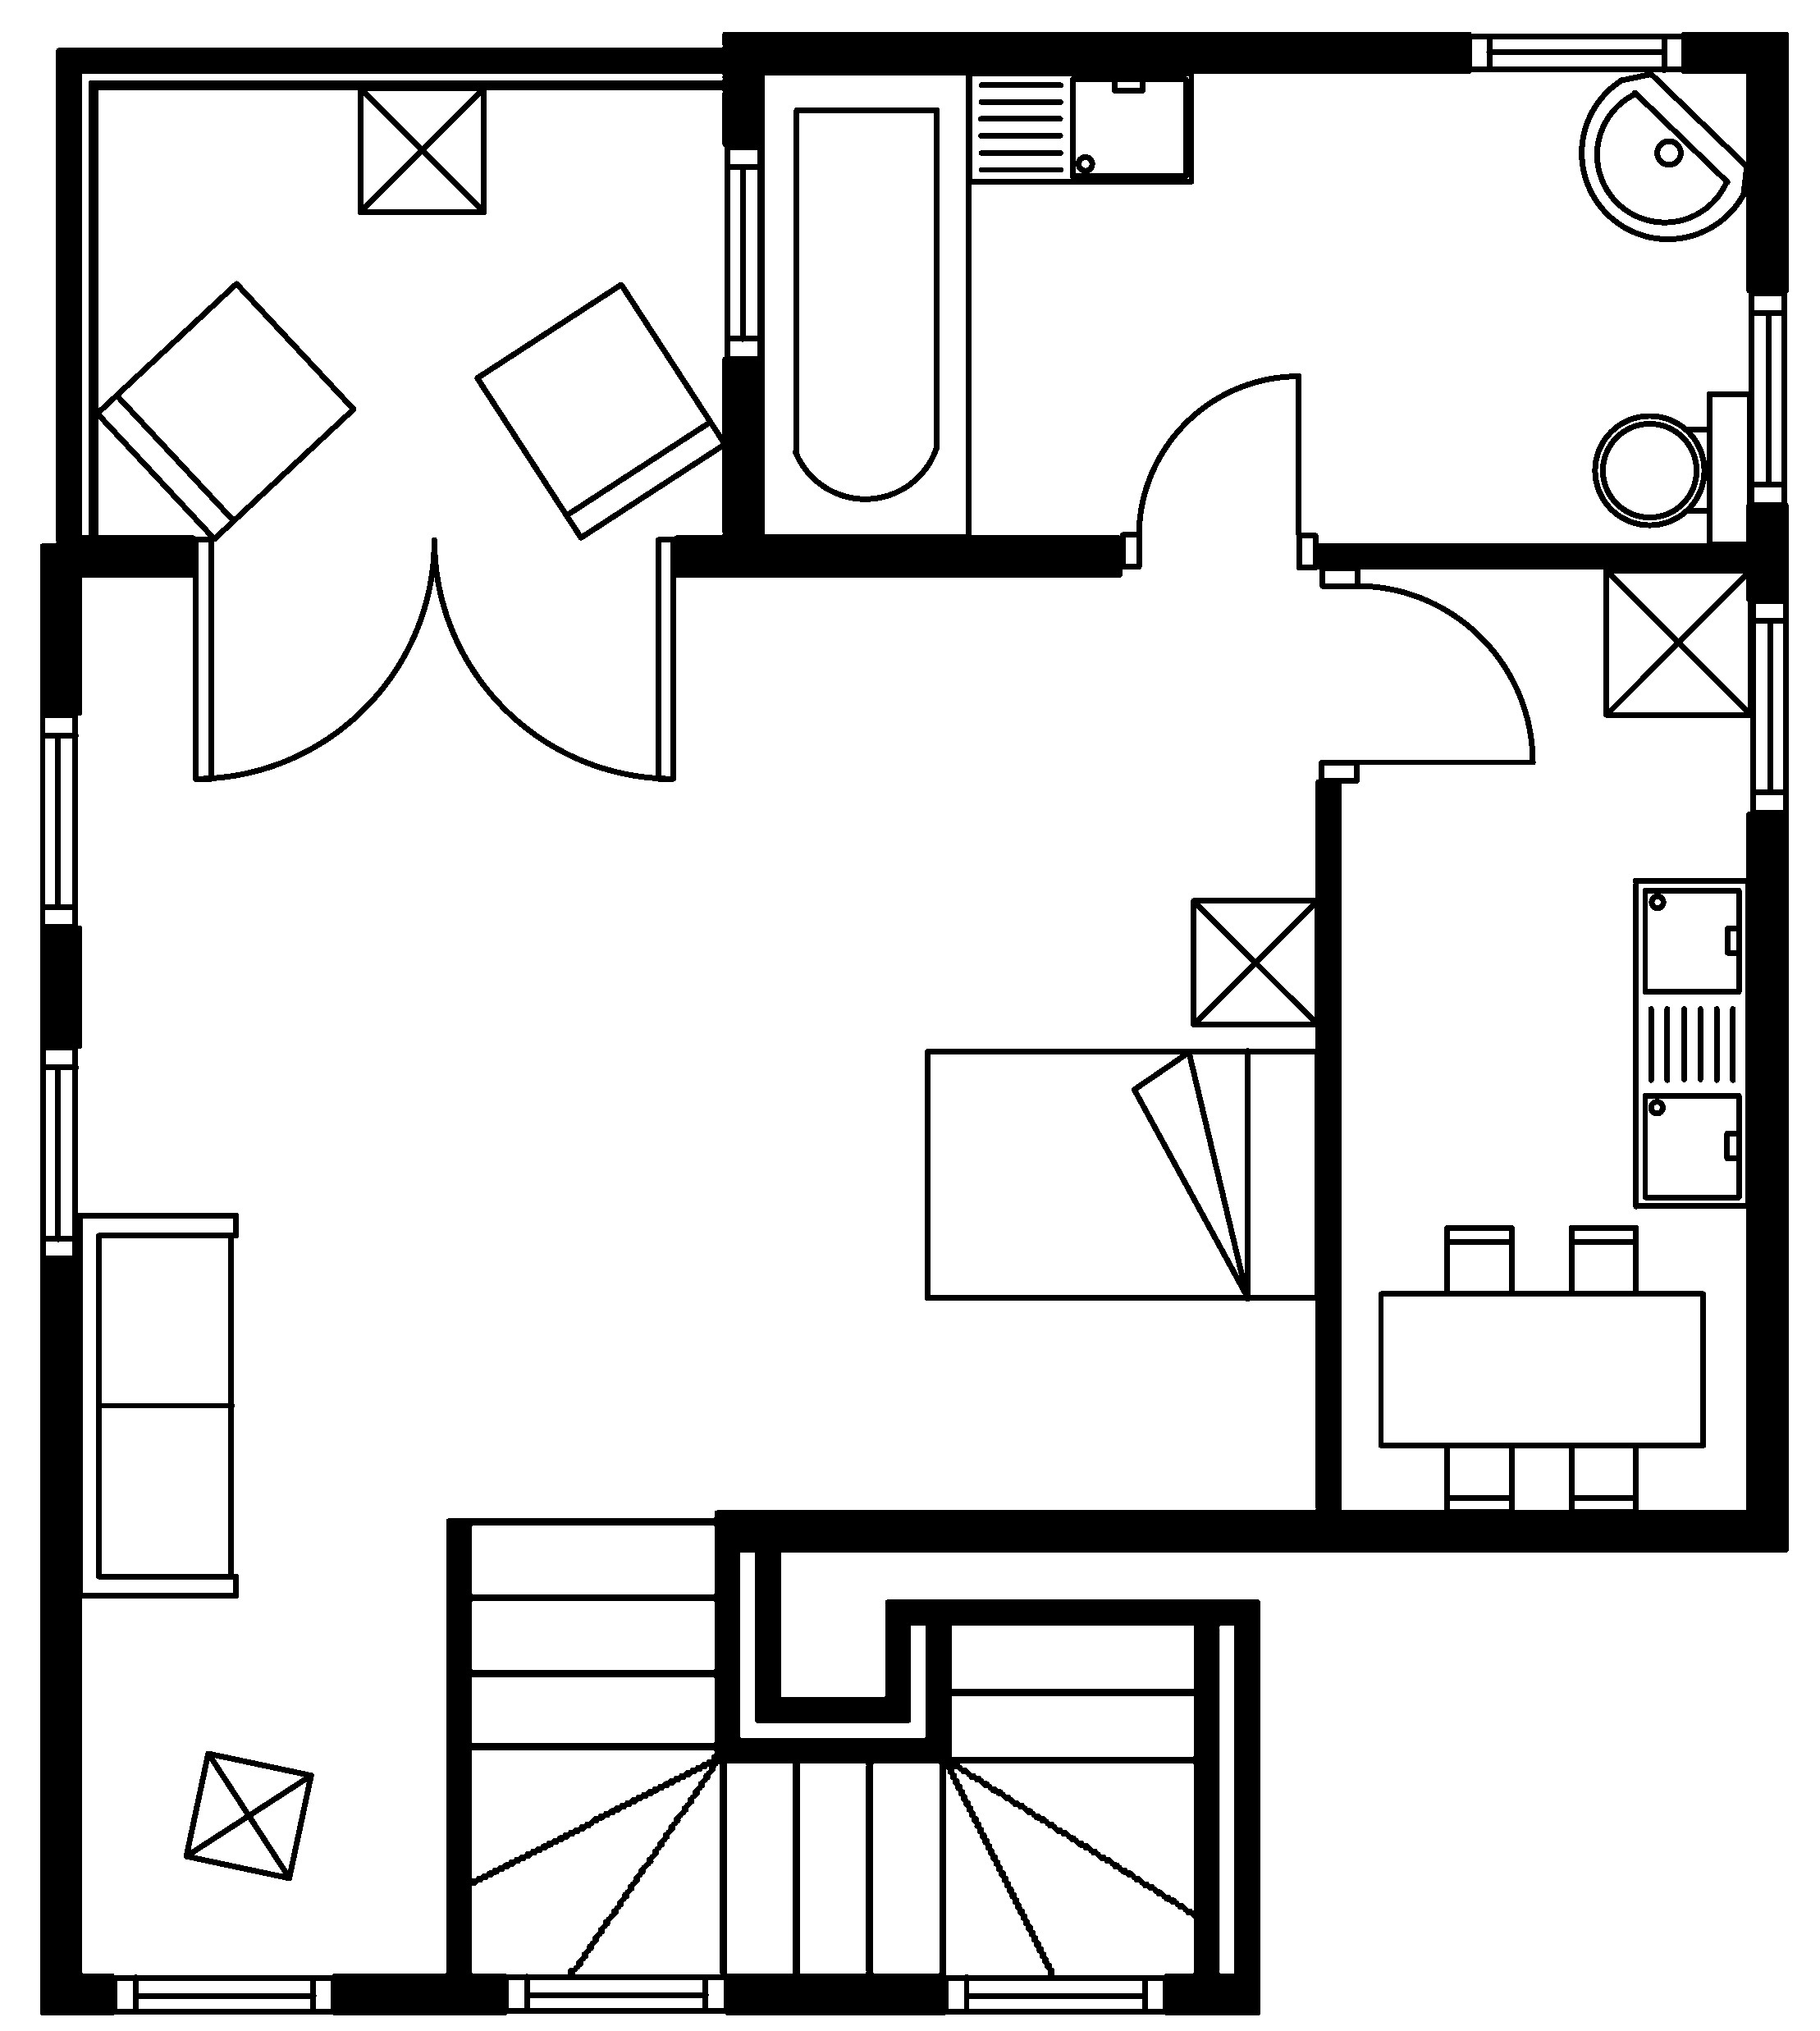bed: (922, 1047, 1321, 1302)
coffee_table: (1602, 566, 1753, 719), (181, 1748, 314, 1882), (1189, 896, 1321, 1028), (355, 84, 487, 214)
dining_table: (1376, 1223, 1706, 1516)
large_sink: (1592, 388, 1753, 548)
large_sofa: (76, 1211, 239, 1599)
sink: (964, 69, 1195, 184)
small_sink: (1578, 70, 1750, 241)
small_sofa: (93, 279, 357, 543), (473, 279, 727, 541)
tub: (757, 69, 971, 539)
twin_sink: (1630, 875, 1750, 1209)
